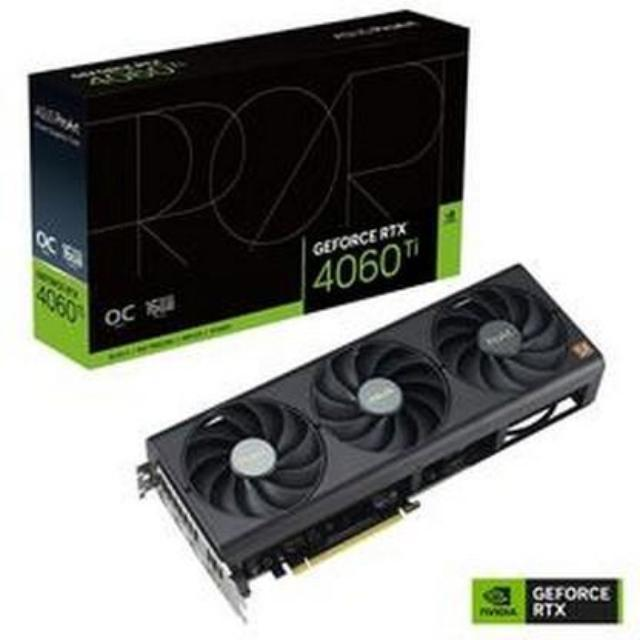GPU: (138, 257, 614, 611)
